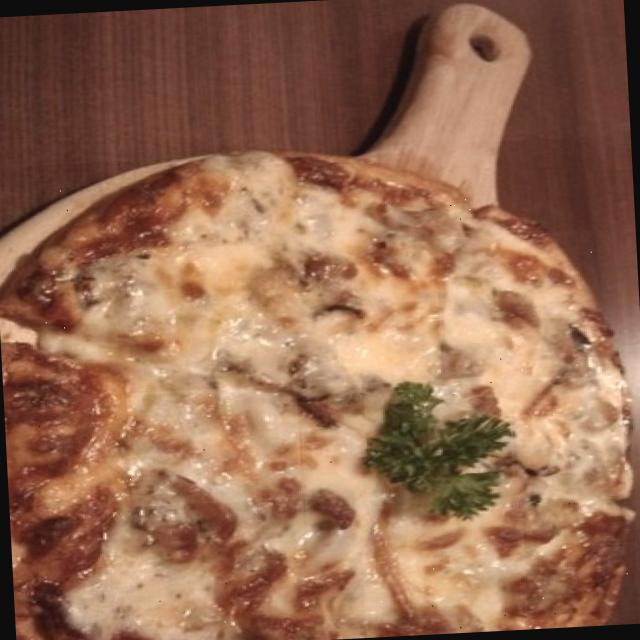basil: (363, 374, 516, 528)
cheese: (90, 156, 443, 422), (436, 228, 626, 506), (360, 500, 528, 638), (126, 383, 302, 506), (86, 540, 222, 640), (300, 423, 385, 554)
pizza: (2, 152, 630, 640)
